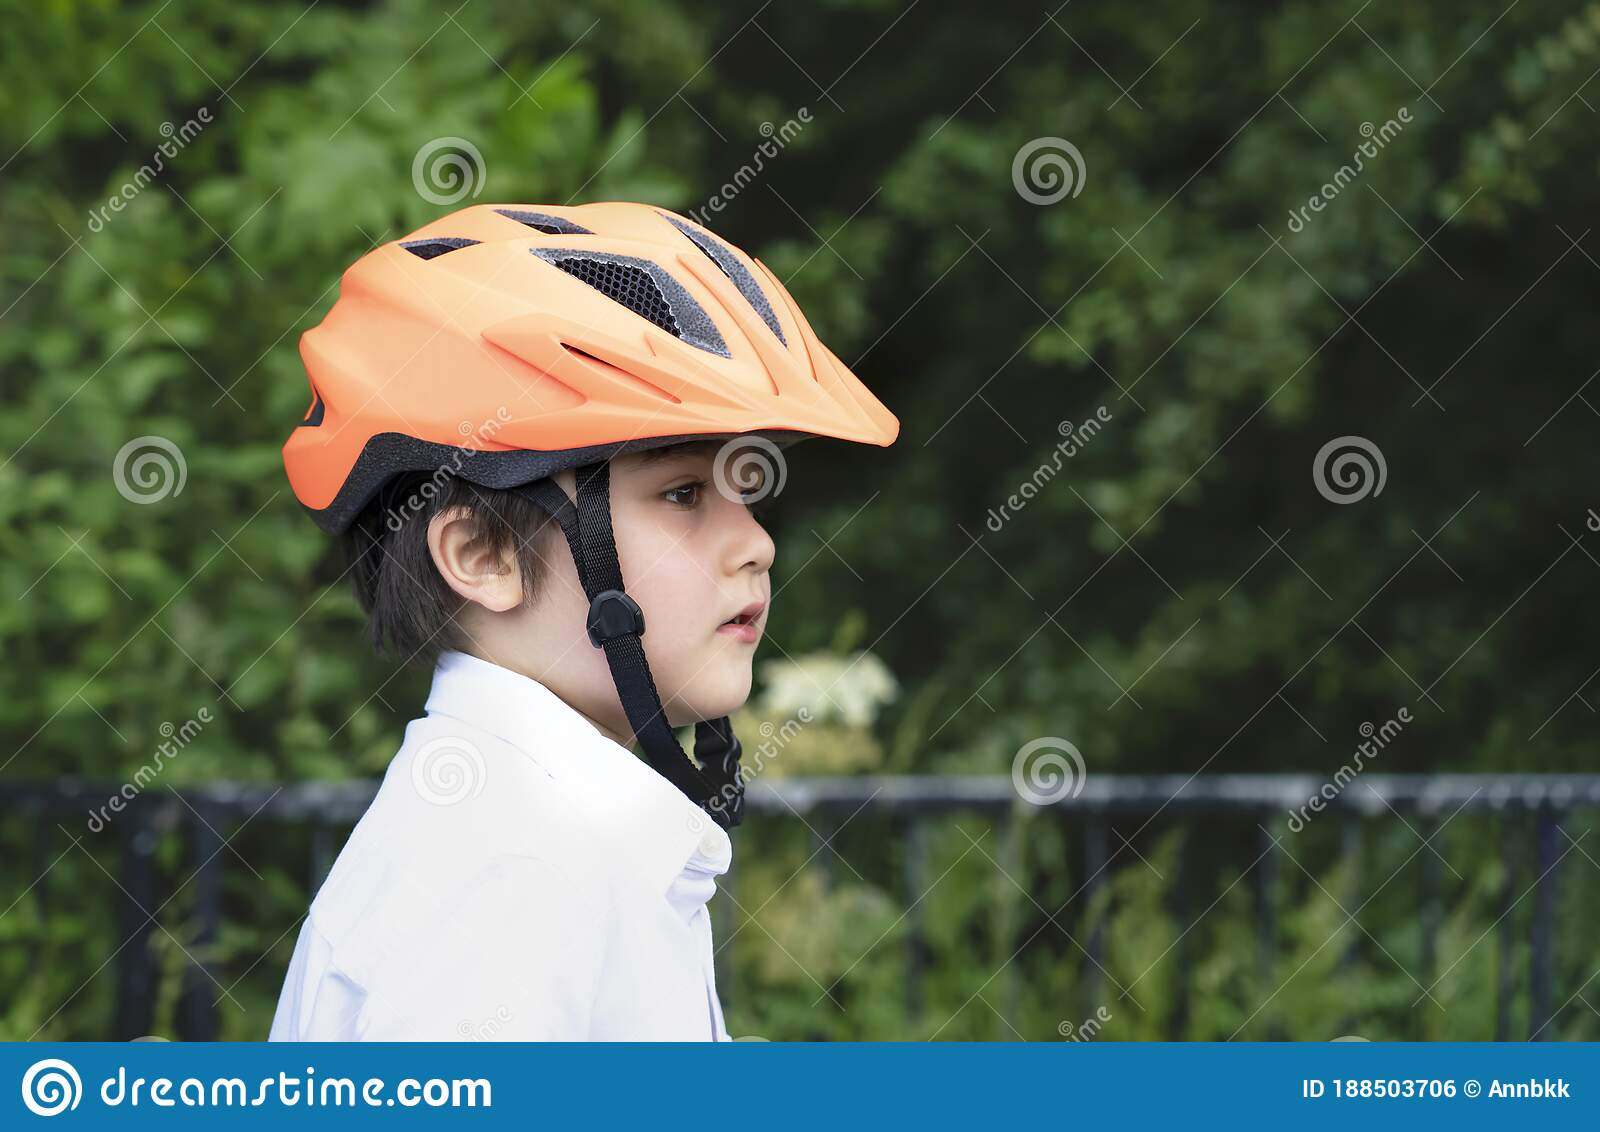helmet: (282, 200, 900, 728)
